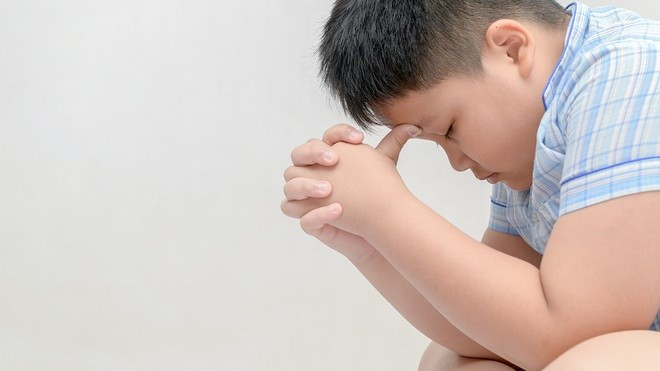face_no_mask: (324, 2, 571, 194)
